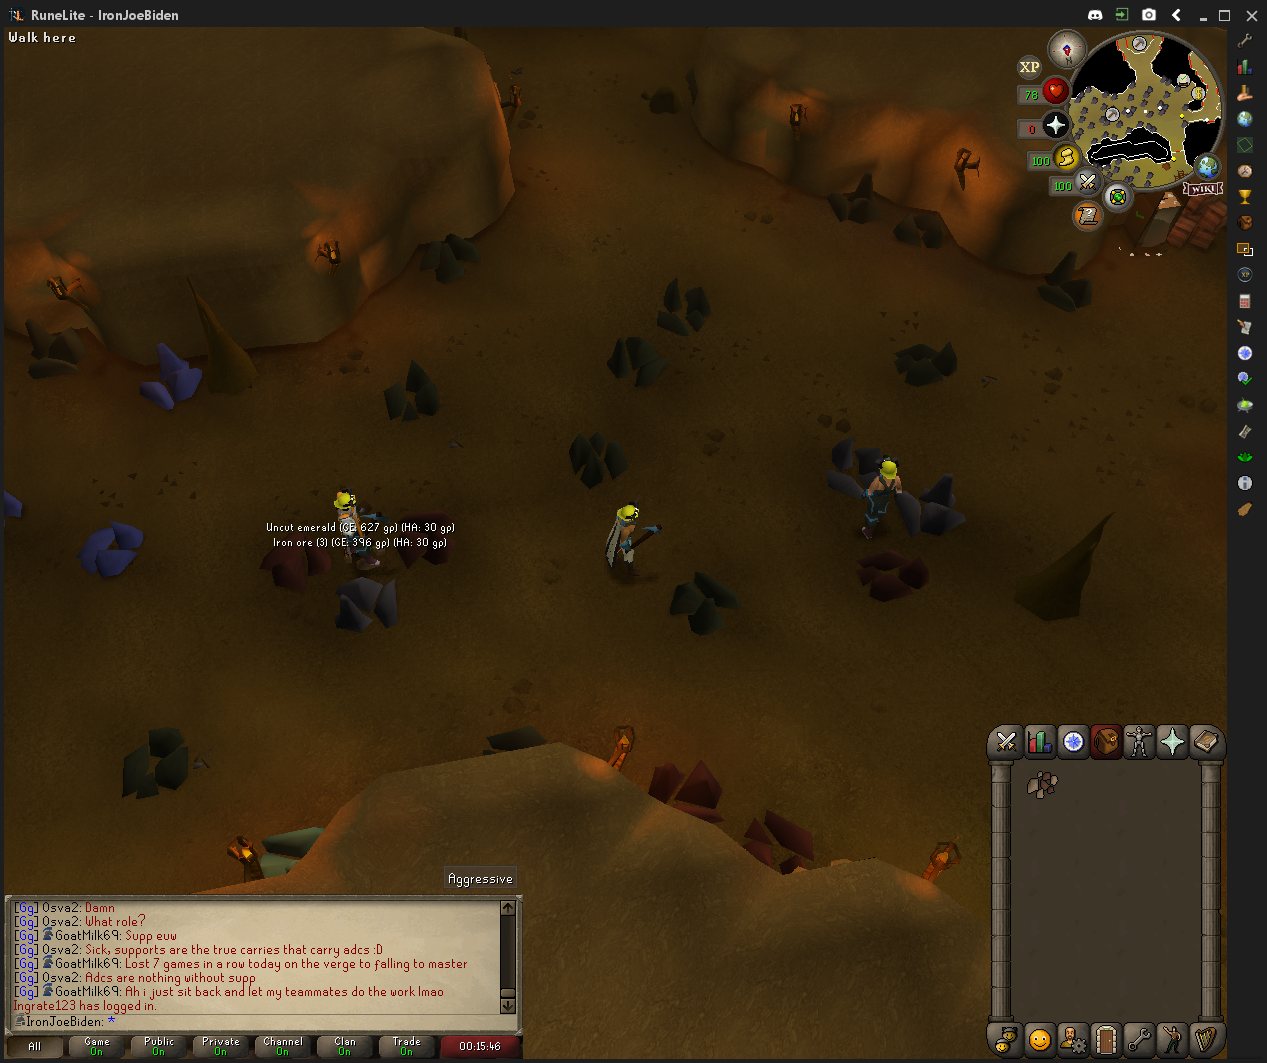rune_pickaxe: (624, 522, 666, 561)
